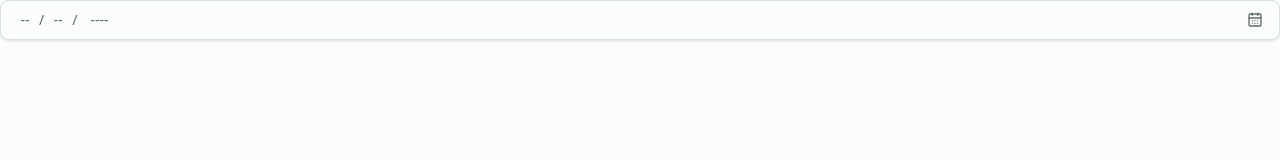
it: DateField › fills all three boxes from a pasted date
Click the field named "Day" at point(25, 20), box left=13, top=10, right=37, bottom=30
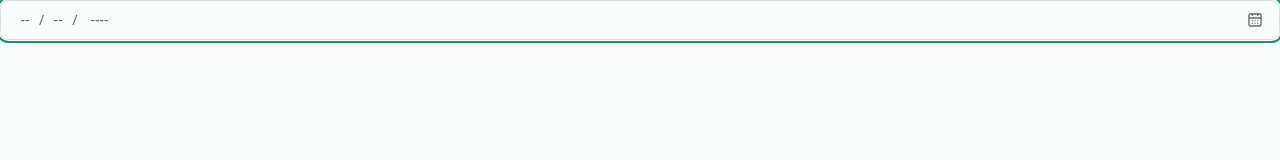
Type keys "05/08/2026"
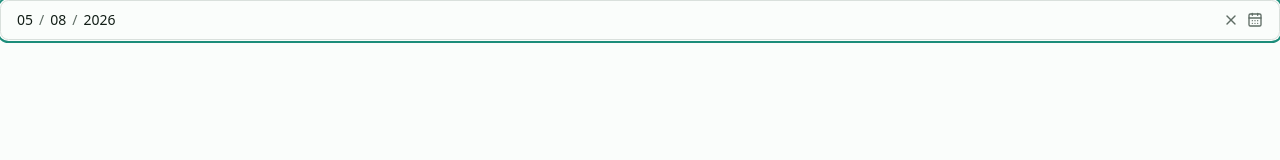
Result: the field named "Year" holds "2026" at left=79, top=10, right=119, bottom=30
